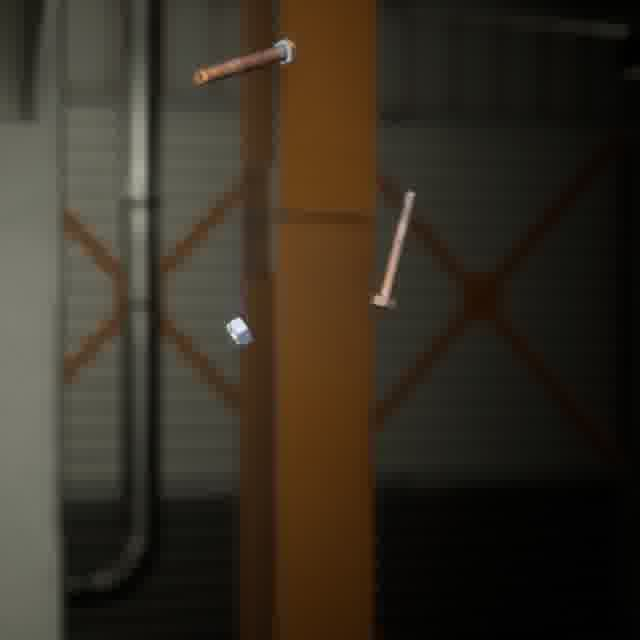bolt: (364, 185, 421, 314), (189, 34, 301, 89)
nut: (222, 312, 257, 350)
